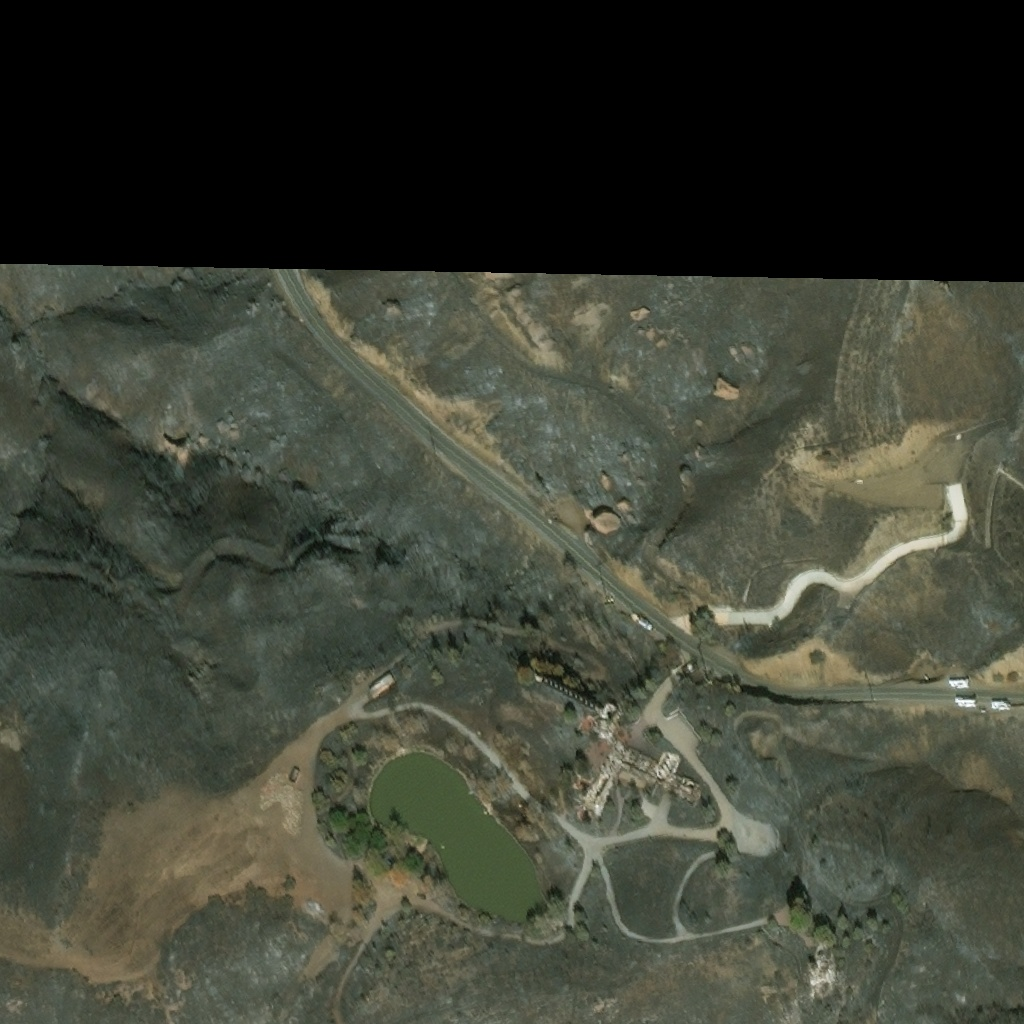3 destroyed: (537, 676, 699, 815), (367, 671, 394, 697), (809, 954, 830, 987)
